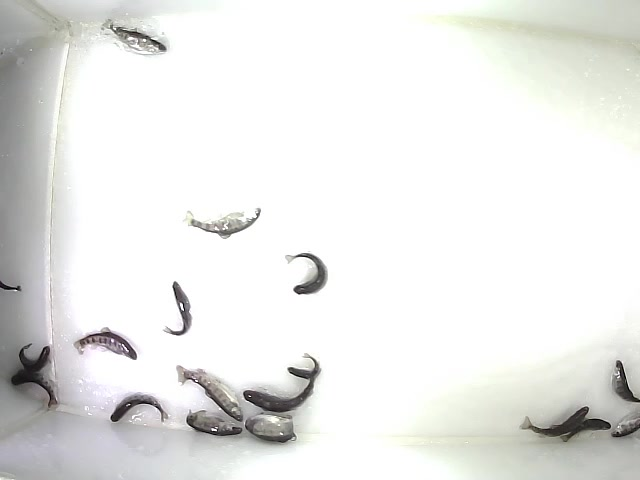fish: (176, 363, 244, 423), (242, 371, 318, 412), (178, 205, 263, 241), (99, 17, 168, 57), (519, 405, 590, 439), (72, 326, 138, 362), (283, 250, 329, 298), (159, 279, 194, 338), (10, 368, 59, 408), (110, 392, 171, 423), (244, 412, 298, 445), (184, 408, 243, 436), (558, 417, 612, 443), (611, 359, 640, 404), (18, 342, 50, 374), (286, 352, 321, 380)
